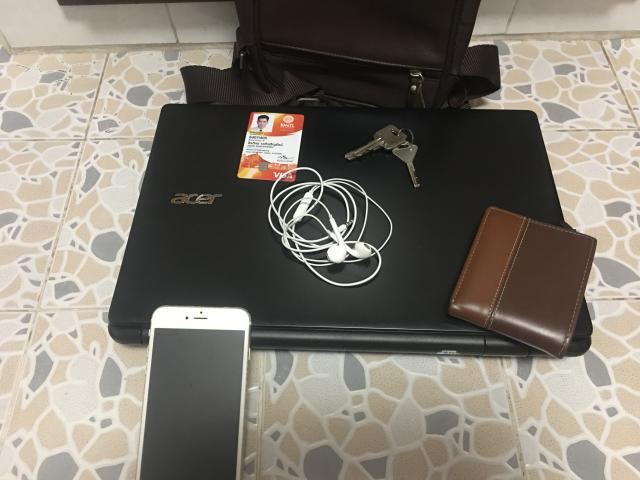Keys: (345, 125, 420, 188)
Mobile phone: (138, 306, 251, 479)
Wallet: (449, 206, 596, 358)
wire: (268, 168, 392, 288)
